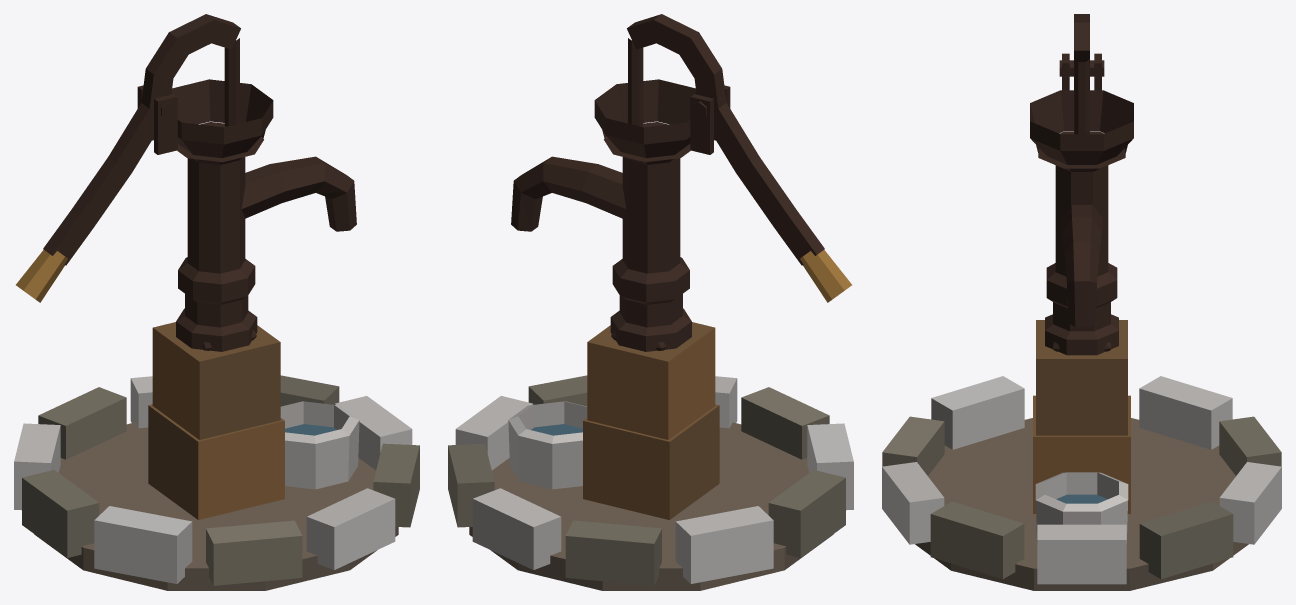
The model's file is hand-water-pump-448037.glb.
The picture shows the model from 3 angles, left to right: view 1: azimuth 30°, elevation 25°; view 2: azimuth 150°, elevation 25°; view 3: azimuth 270°, elevation 25°; orthographic projection.
Visible parts, largest first — view 1: hand-water-pump, handle, basin; view 2: hand-water-pump, handle, basin; view 3: hand-water-pump, basin, handle.
Boxes of the visible parts, bbox=[...] form: hand-water-pump: bbox=[14, 79, 419, 590]; handle: bbox=[16, 14, 240, 302]; basin: bbox=[280, 401, 359, 489]; hand-water-pump: bbox=[448, 79, 853, 590]; handle: bbox=[627, 14, 851, 302]; basin: bbox=[508, 401, 587, 489]; hand-water-pump: bbox=[882, 53, 1281, 590]; basin: bbox=[1035, 472, 1128, 542]; handle: bbox=[1074, 14, 1089, 134].
Bounding box in the file's own units: 0.9409 × 1.21 × 0.8963.
